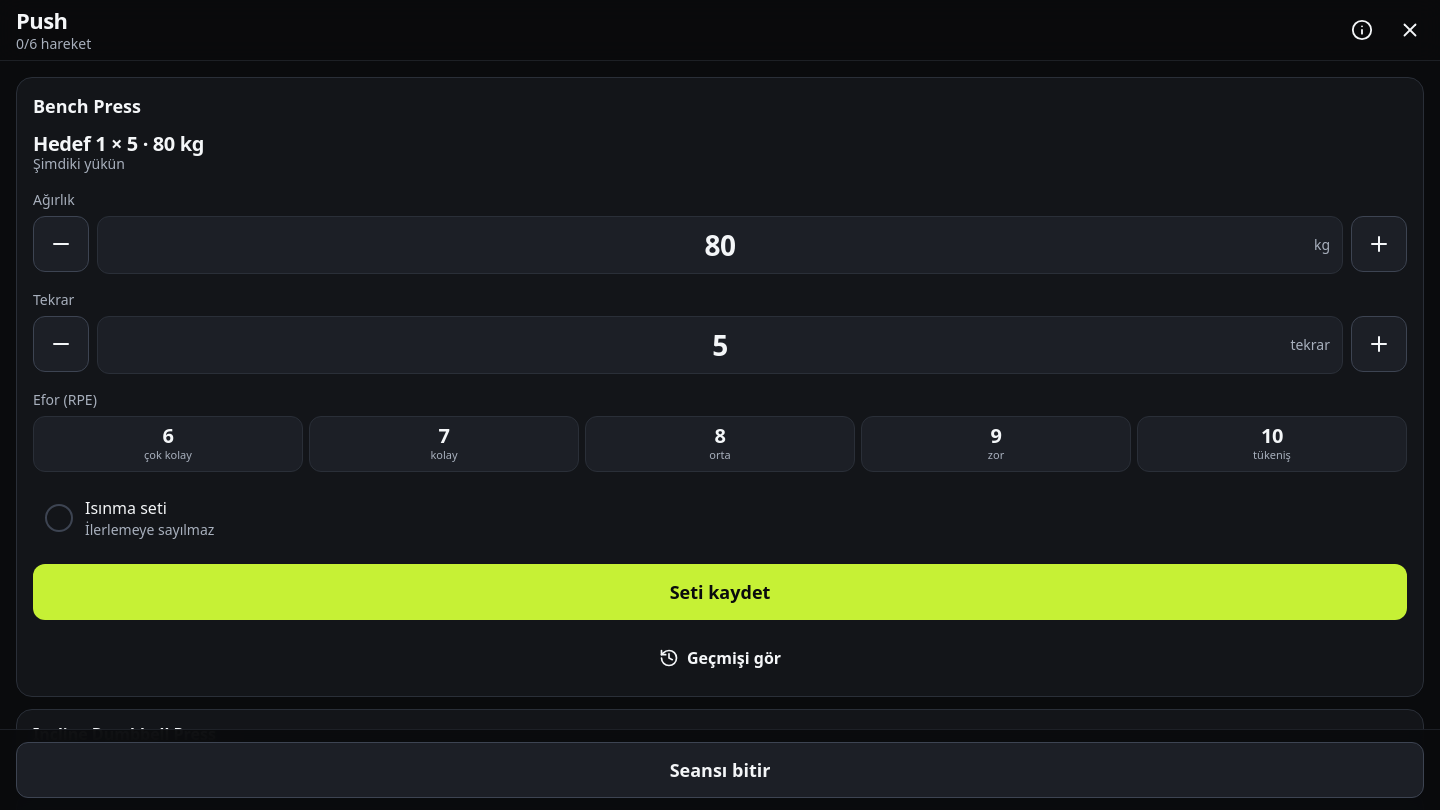
Test: SessionScreen with a running session › logs a warmup set without marking the exercise done
This screenshot has width=1440, height=810.
Click the checkbox labelled "Isınma seti İlerlemeye sayılmaz" at point(126, 508), box [33,488,1407,548]
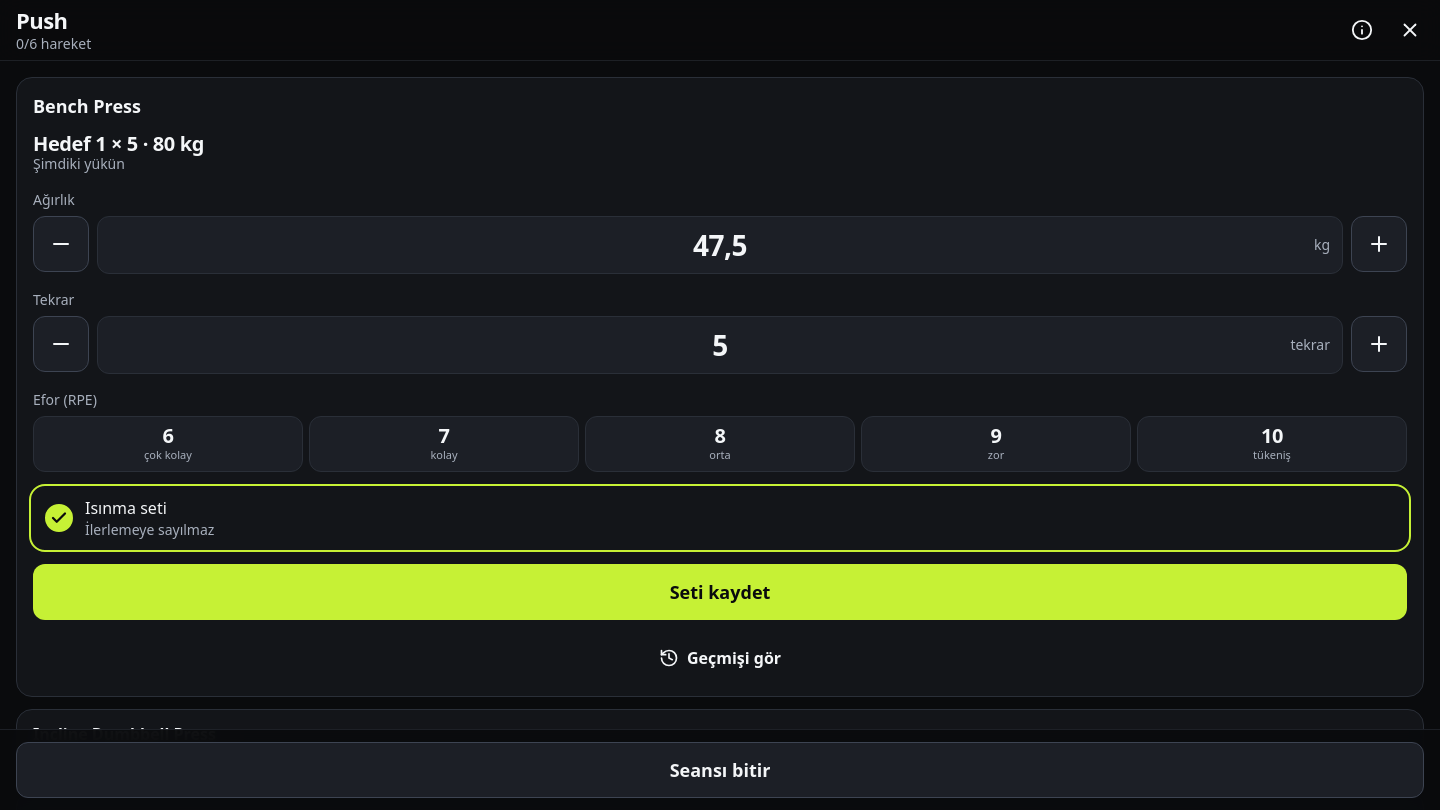
Expected: the field labelled "Ağırlık" holds "47,5", [98,217,1342,273]
Click the button "Seti kaydet" at point(720, 592), box [33,564,1407,620]
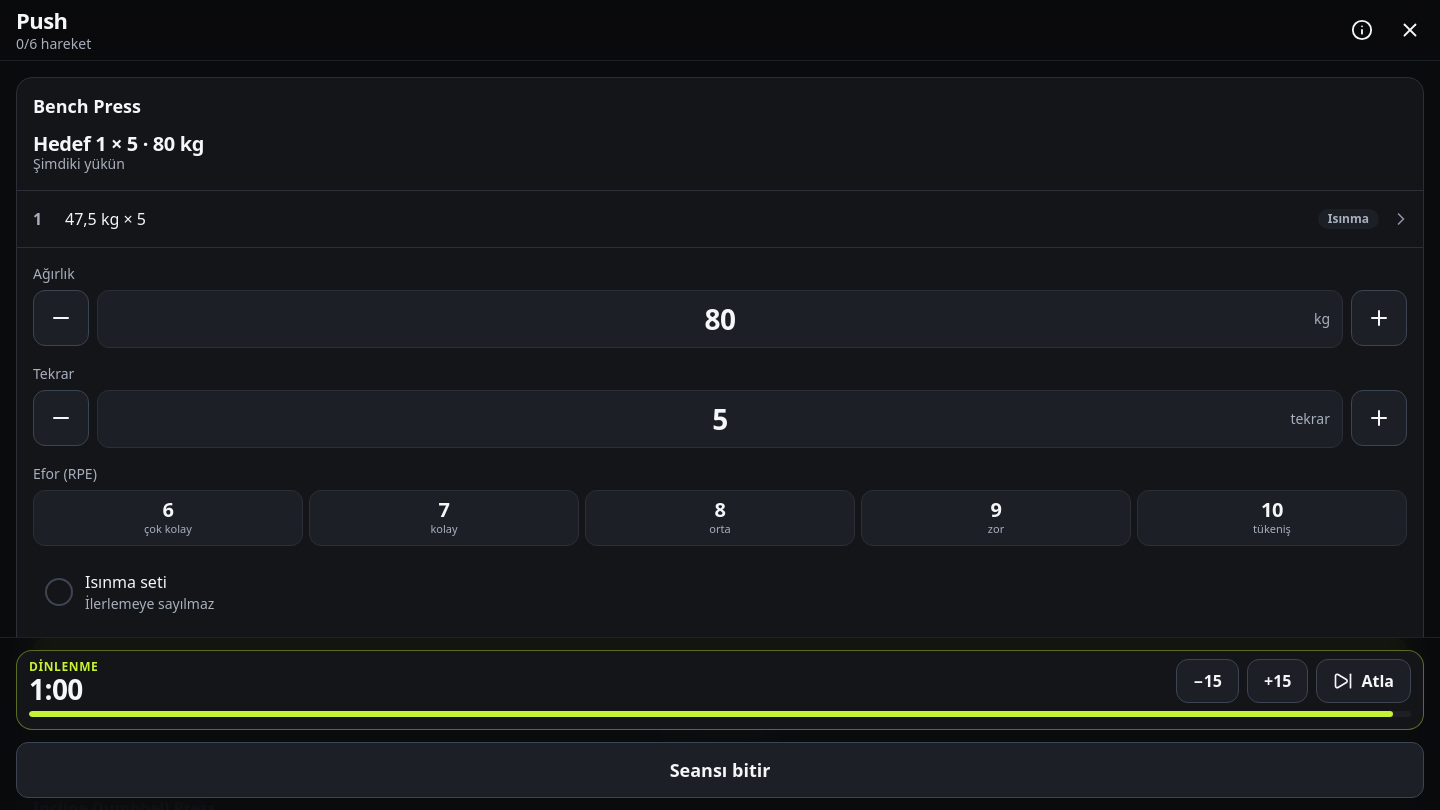
Expected: the text "0/6 hareket" is shown, [16,34,91,53]
Expected: the field labelled "Ağırlık" holds "80", [98,291,1342,347]
